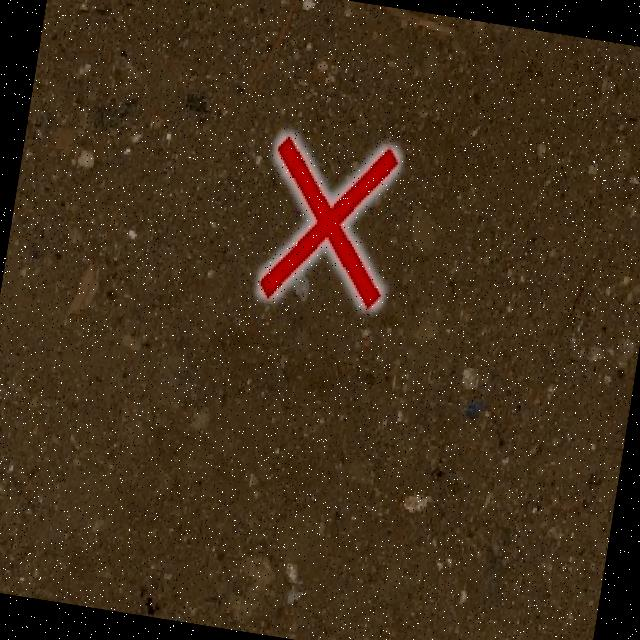x_marker: (255, 132, 402, 312)
